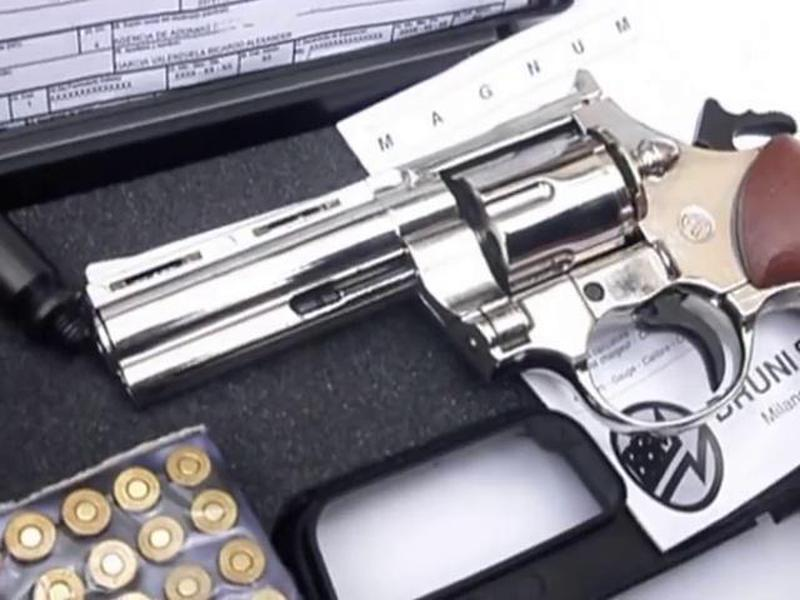Revolver: (77, 49, 800, 408)
